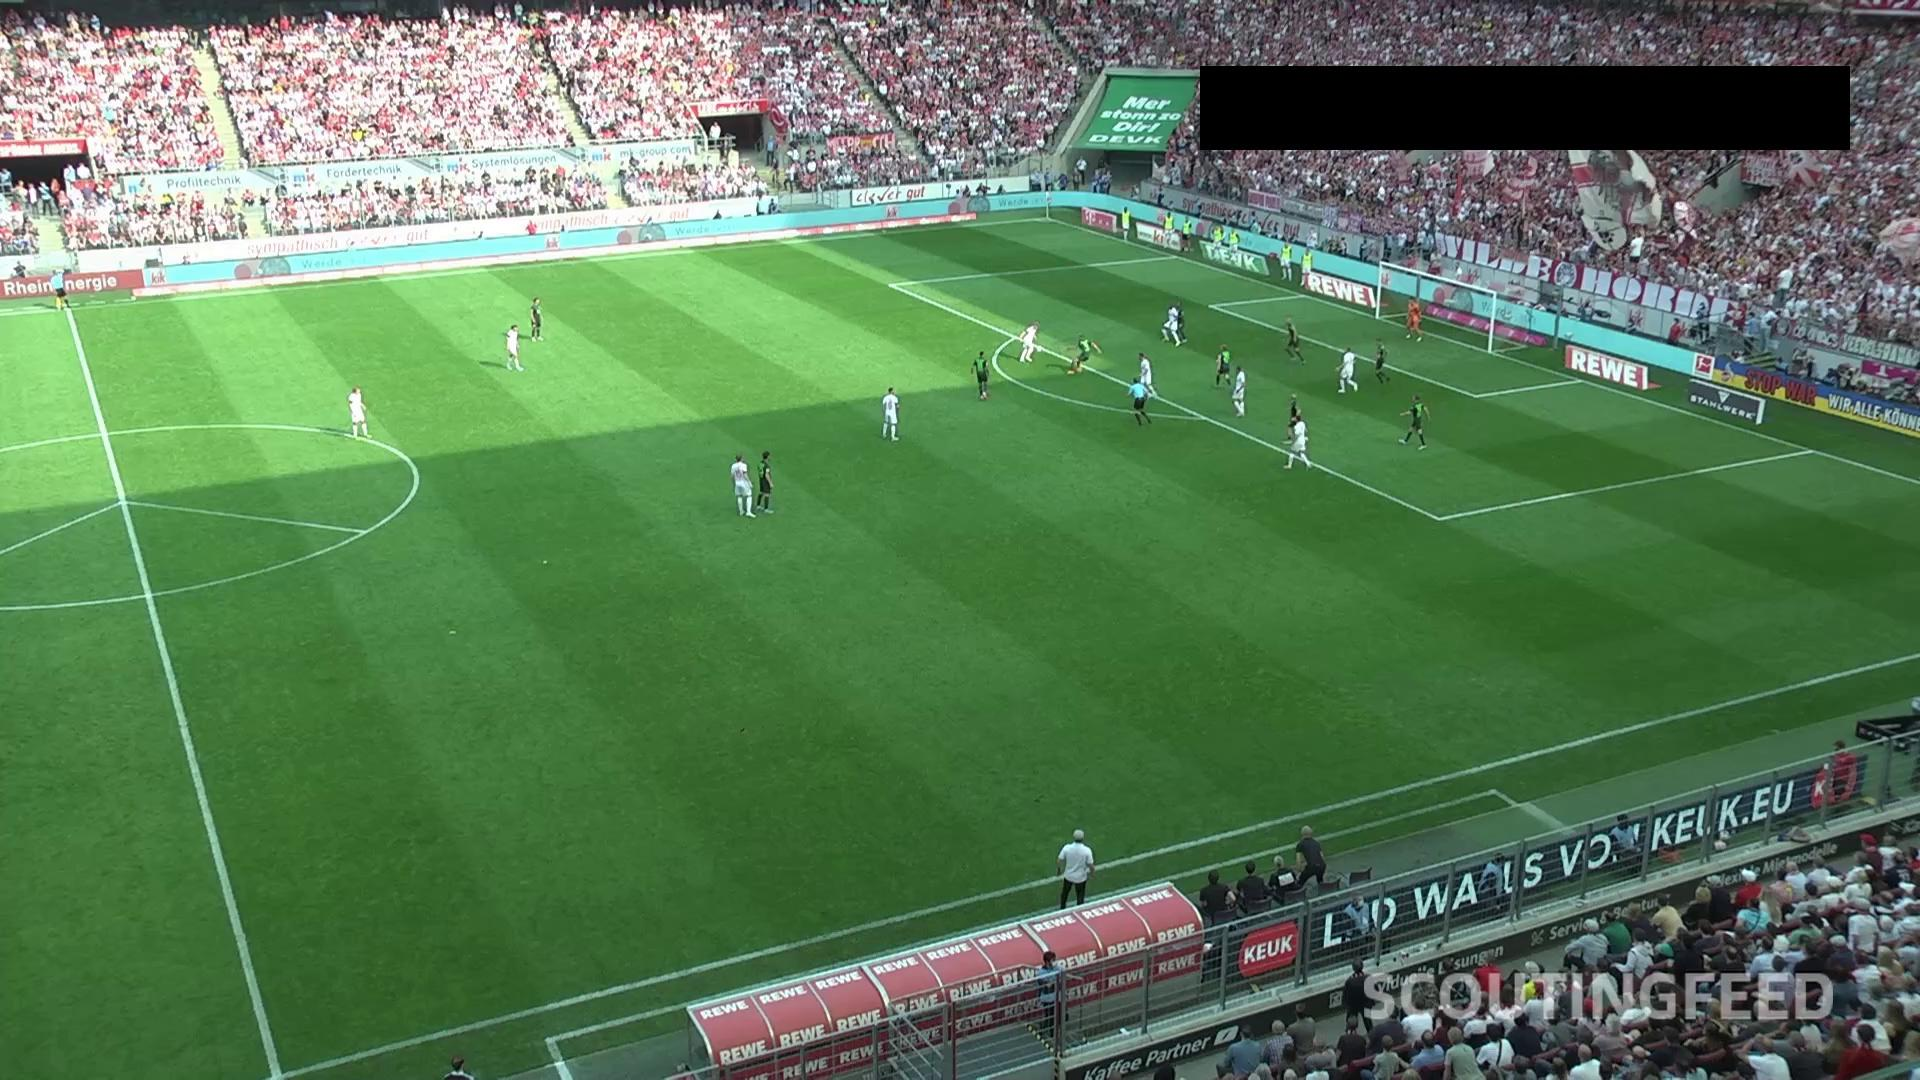Location-of-ball: (1030, 340, 1052, 359)
